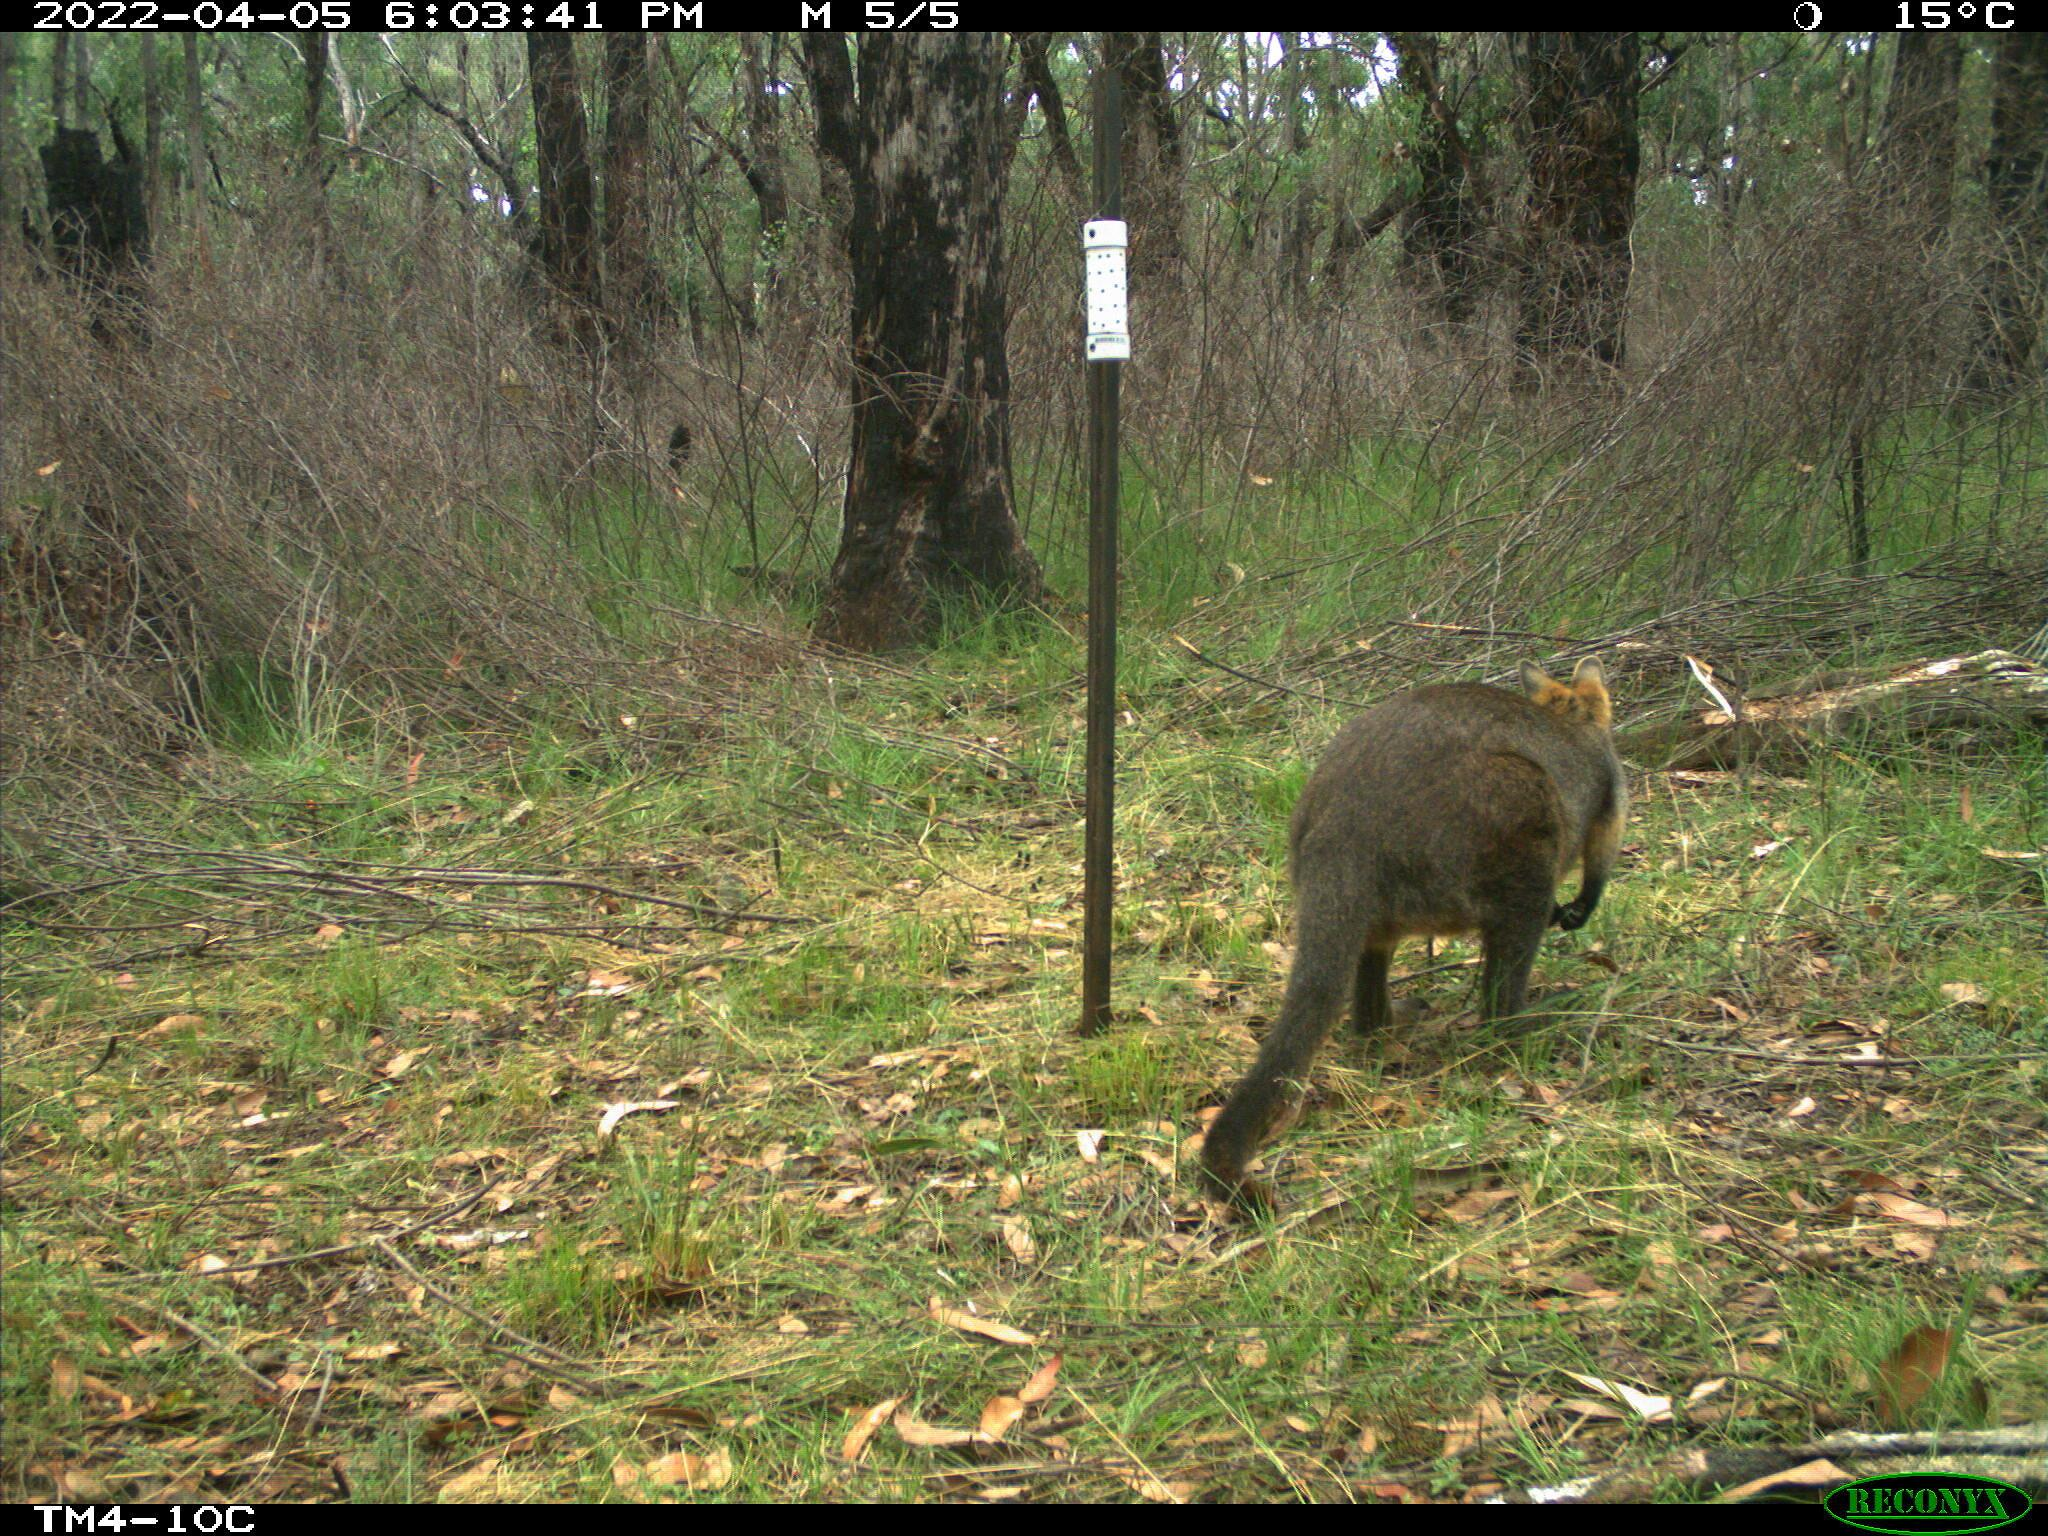Swamp wallaby: (1200, 652, 1627, 1234)
